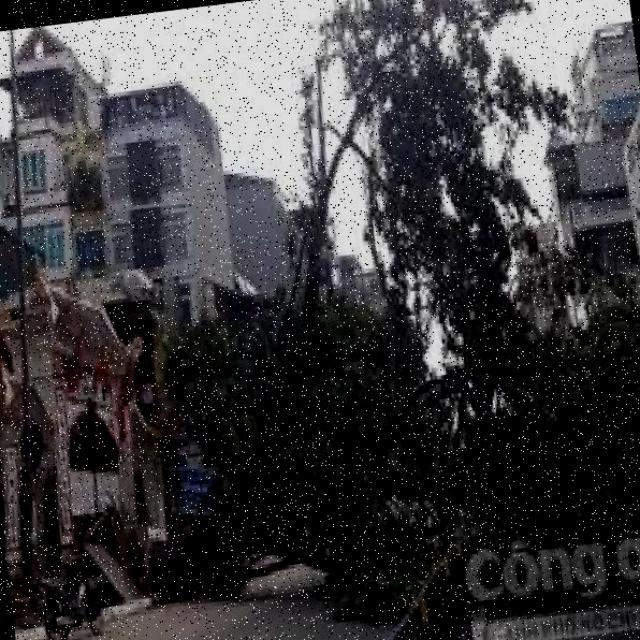fallen_object: (57, 154, 640, 630)
